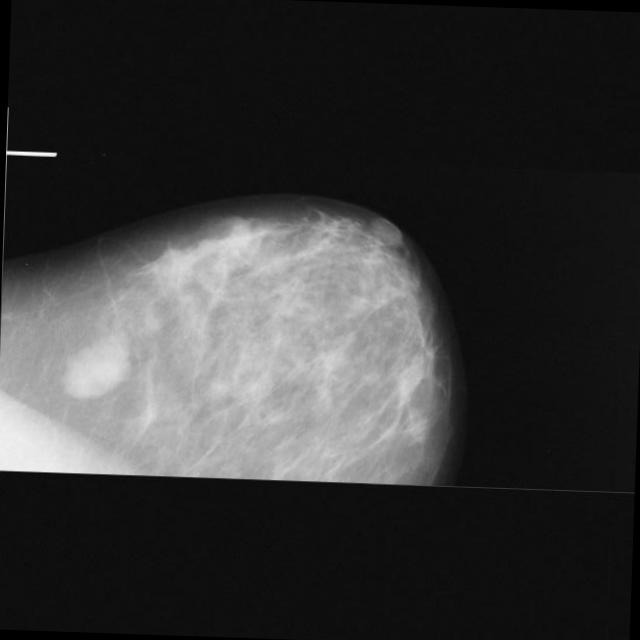CIRC: (55, 320, 143, 408)
